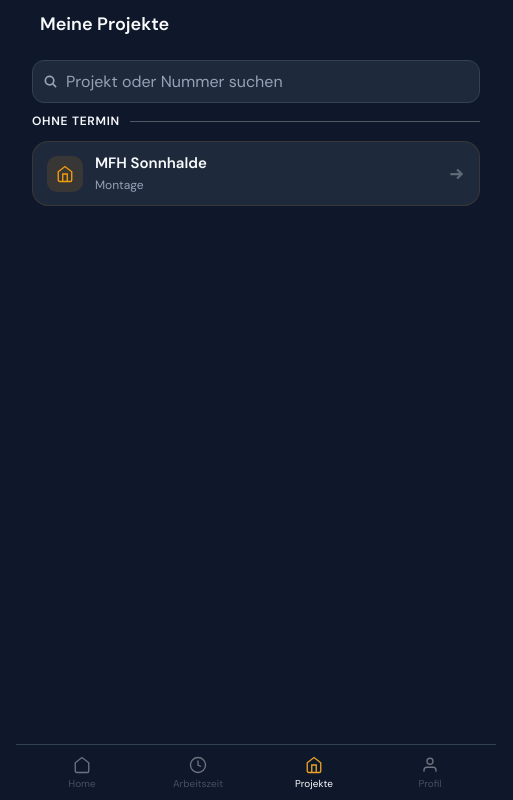
it: ProjekteScreen — Rapport-Sperre › behandelt ein fehlendes Feld als "nicht gesperrt" (ältere API)
What coordinates should you click on to do the following:
click the text "MFH Sonnhalde"
I would click on:
 (151, 163)
Its box is 95,153 -> 207,173.
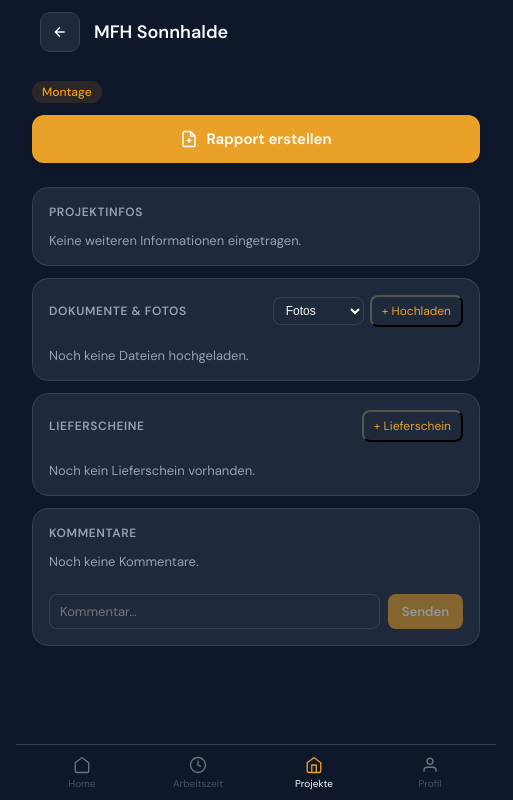
Now the button "Rapport erstellen" is enabled, box 32,115 -> 480,163
